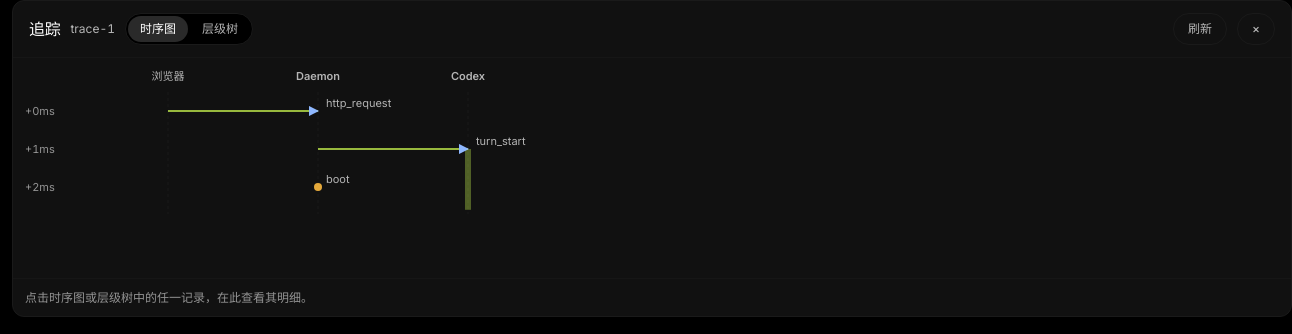
Test: TraceView 追踪内部视图 › 开关切到层级树：保留父子结构，每行带方向列
Click the button "层级树" at [220, 29], box [190,16,250,42]
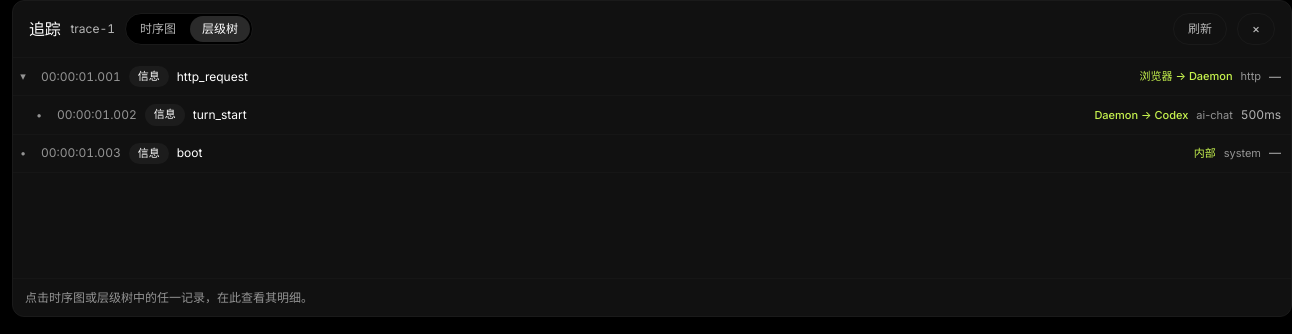
Result: the number of elements with test id "trace-tree-row" is 3 at [13,58,1291,96]; [13,96,1291,135]; [13,135,1291,173]
Result: the text "浏览器 → Daemon" is shown at [1140,68,1232,85]
Result: the text "Daemon → Codex" is shown at [1094,107,1188,123]
